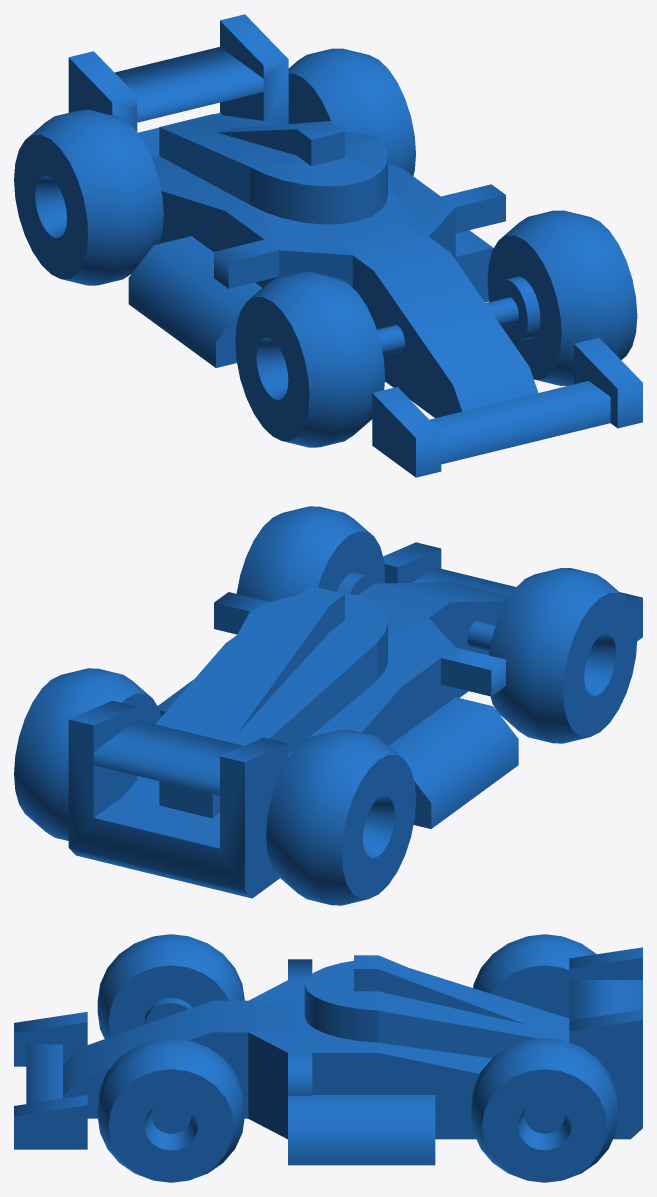
Rendered from car.obj.
The picture shows the model from 3 angles, top to bottom: view 1: azimuth 30°, elevation 25°; view 2: azimuth 150°, elevation 25°; view 3: azimuth 270°, elevation 25°; orthographic projection. The views are drawn at different scales.
Visible parts, largest first — view 1: body, wheel-back-right, wheel-front-right, wheel-front-left, wheel-back-left; view 2: body, wheel-back-right, wheel-front-right, wheel-back-left, wheel-front-left; view 3: body, wheel-back-left, wheel-front-left, wheel-front-right, wheel-back-right.
Boxes of the visible parts, left/top/right/bottom form: body: left=68, top=14, right=642, bottom=477; wheel-back-right: left=14, top=110, right=163, bottom=285; wheel-front-right: left=235, top=272, right=385, bottom=447; wheel-front-left: left=487, top=210, right=637, bottom=385; wheel-back-left: left=288, top=48, right=415, bottom=175; body: left=68, top=542, right=642, bottom=898; wheel-back-right: left=266, top=730, right=415, bottom=905; wheel-front-right: left=489, top=568, right=637, bottom=743; wheel-back-left: left=14, top=668, right=161, bottom=840; wheel-front-left: left=236, top=506, right=385, bottom=602; body: left=14, top=947, right=642, bottom=1165; wheel-back-left: left=471, top=1038, right=618, bottom=1182; wheel-front-left: left=97, top=1038, right=244, bottom=1182; wheel-front-right: left=97, top=934, right=244, bottom=1038; wheel-back-right: left=473, top=934, right=596, bottom=1018.
Size of the model in its own units: 1.3 by 0.7325 by 2.56.
